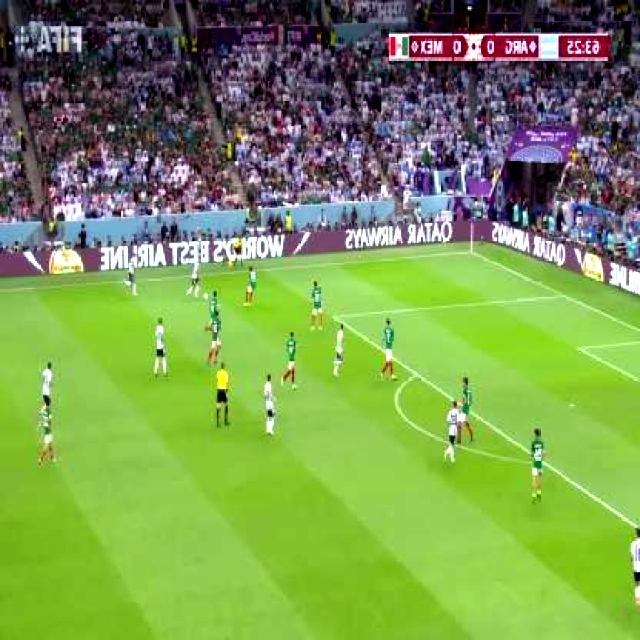bigarea_top_inner: (329, 310, 340, 324)
bigarea_top_outter: (558, 290, 568, 302)
corner: (461, 248, 474, 255)
smallarea_top_inner: (574, 343, 584, 355)
top_arc_area_intersection: (411, 368, 422, 383)
